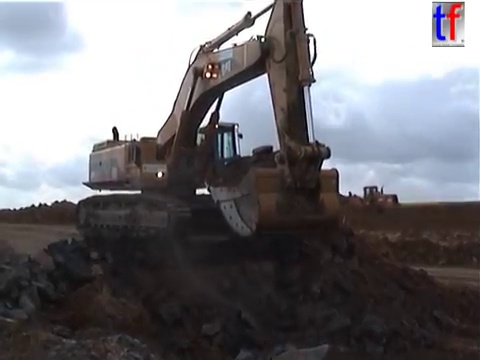excavator: (71, 1, 345, 245)
wheel loader: (324, 181, 402, 219)
